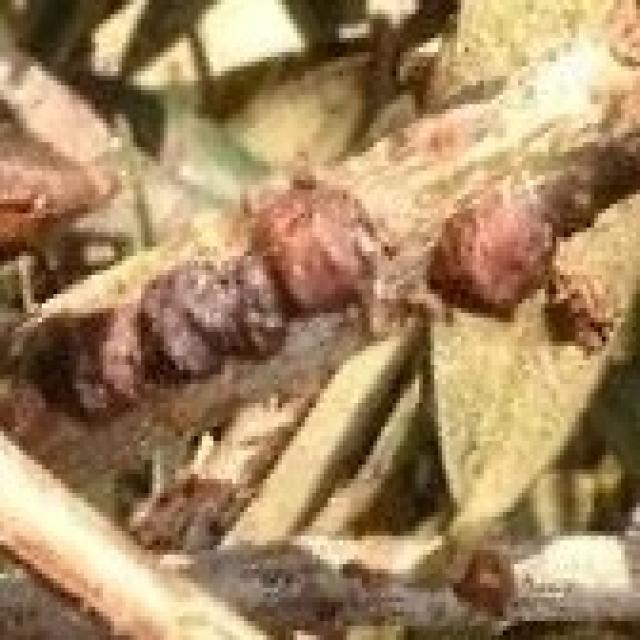BlackScale: (22, 176, 388, 436), (427, 190, 552, 313)
